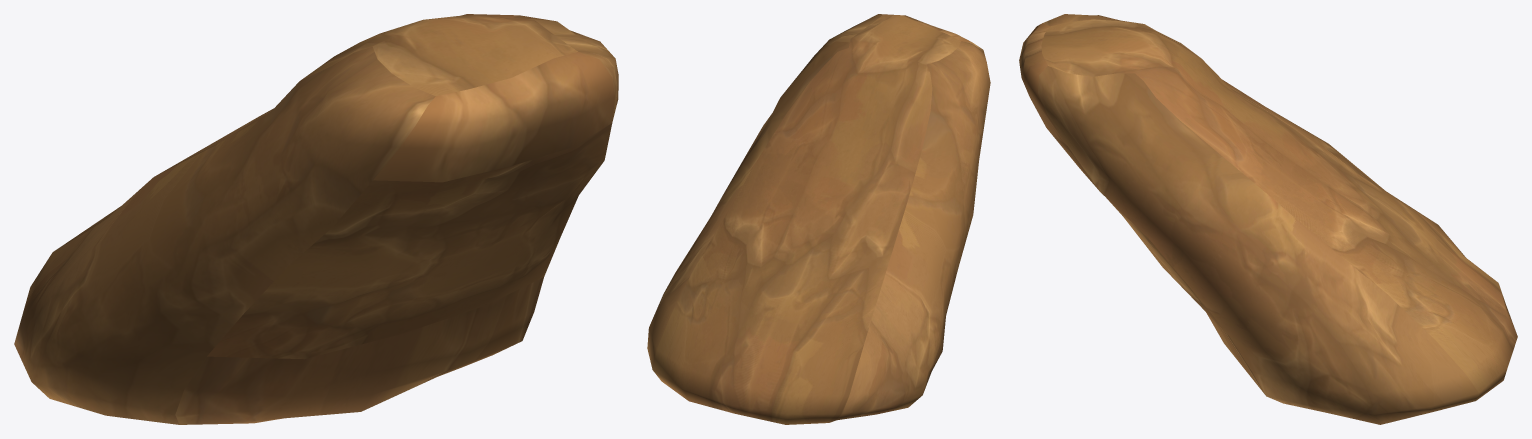
Rendered from Lowest_islands9.fbx.
The picture shows the model from 3 angles, left to right: view 1: azimuth 30°, elevation 25°; view 2: azimuth 150°, elevation 25°; view 3: azimuth 270°, elevation 25°; orthographic projection. The views are drawn at different scales.
Visible parts, largest first — view 1: Cube.011; view 2: Cube.011; view 3: Cube.011.
Boxes of the visible parts, x1,y1,x2,y2 form: Cube.011: (14, 14, 618, 424); Cube.011: (647, 14, 990, 424); Cube.011: (1019, 14, 1517, 424).
Bounding box in the file's own units: 1319 × 1280 × 1729.
1 material, 1 textured.
